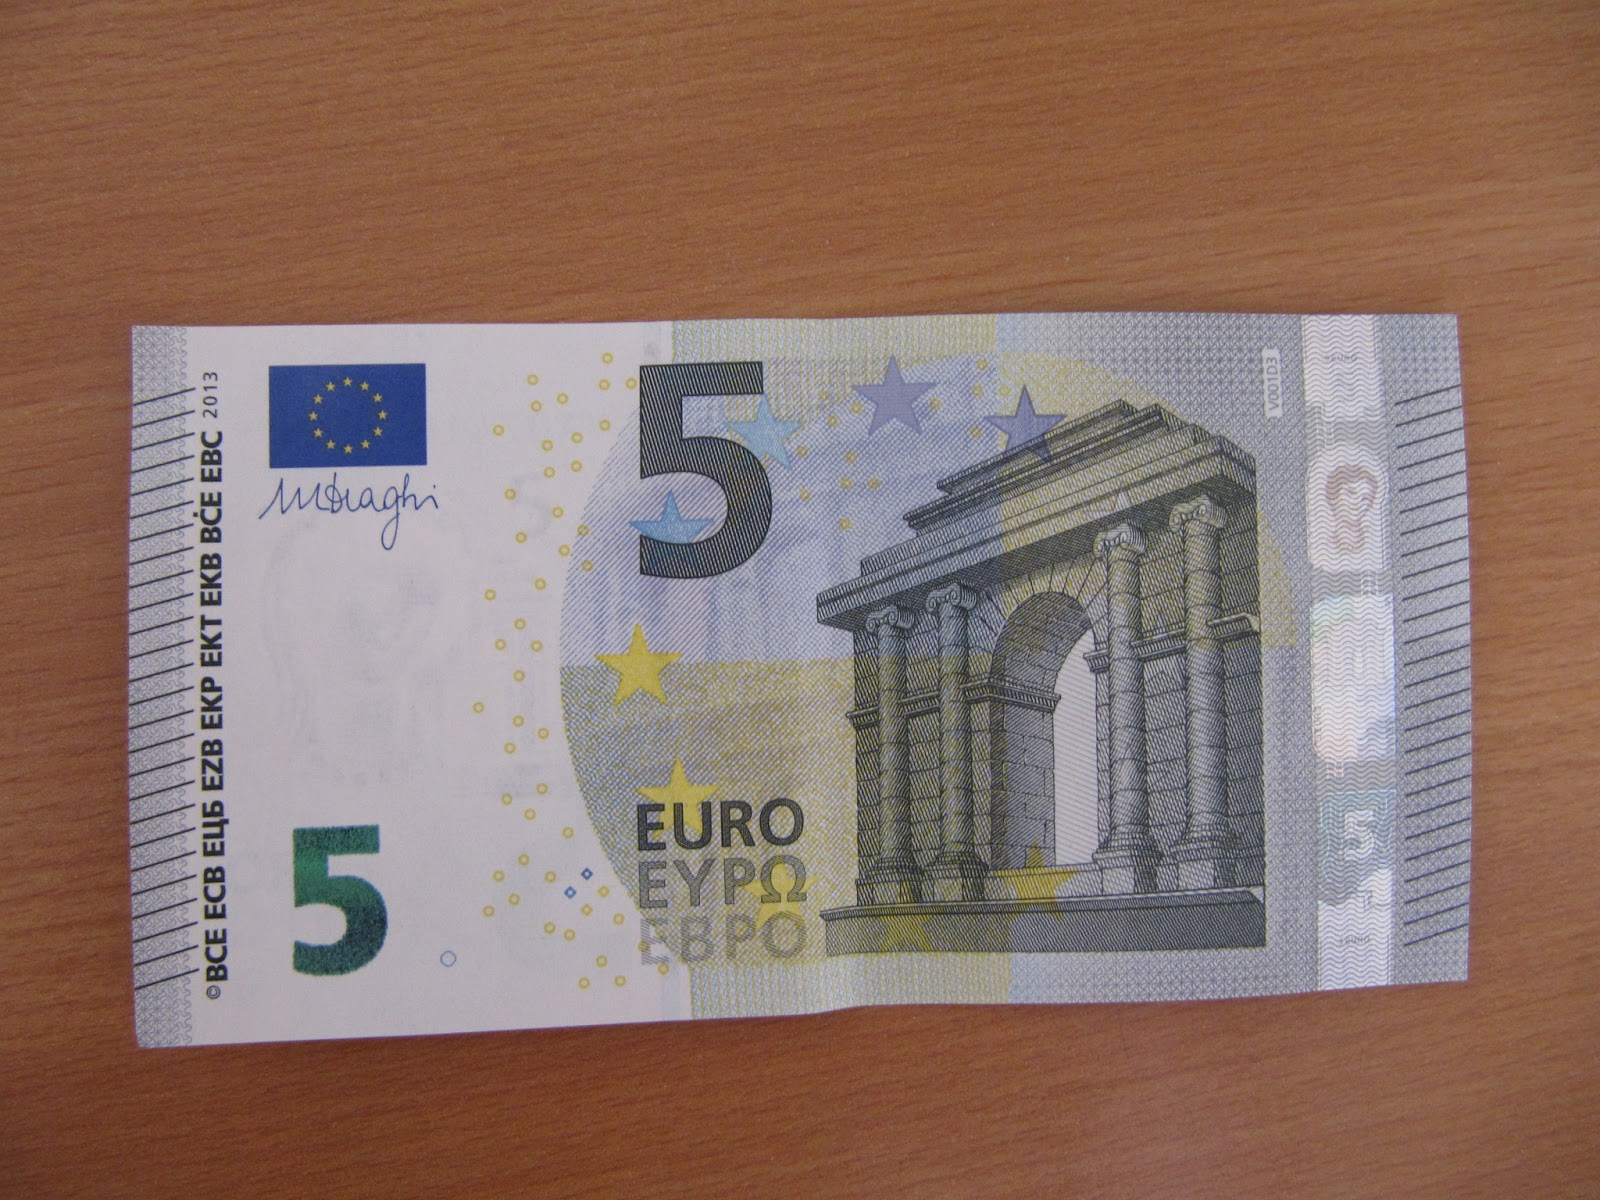billete: (117, 306, 1483, 1056)
